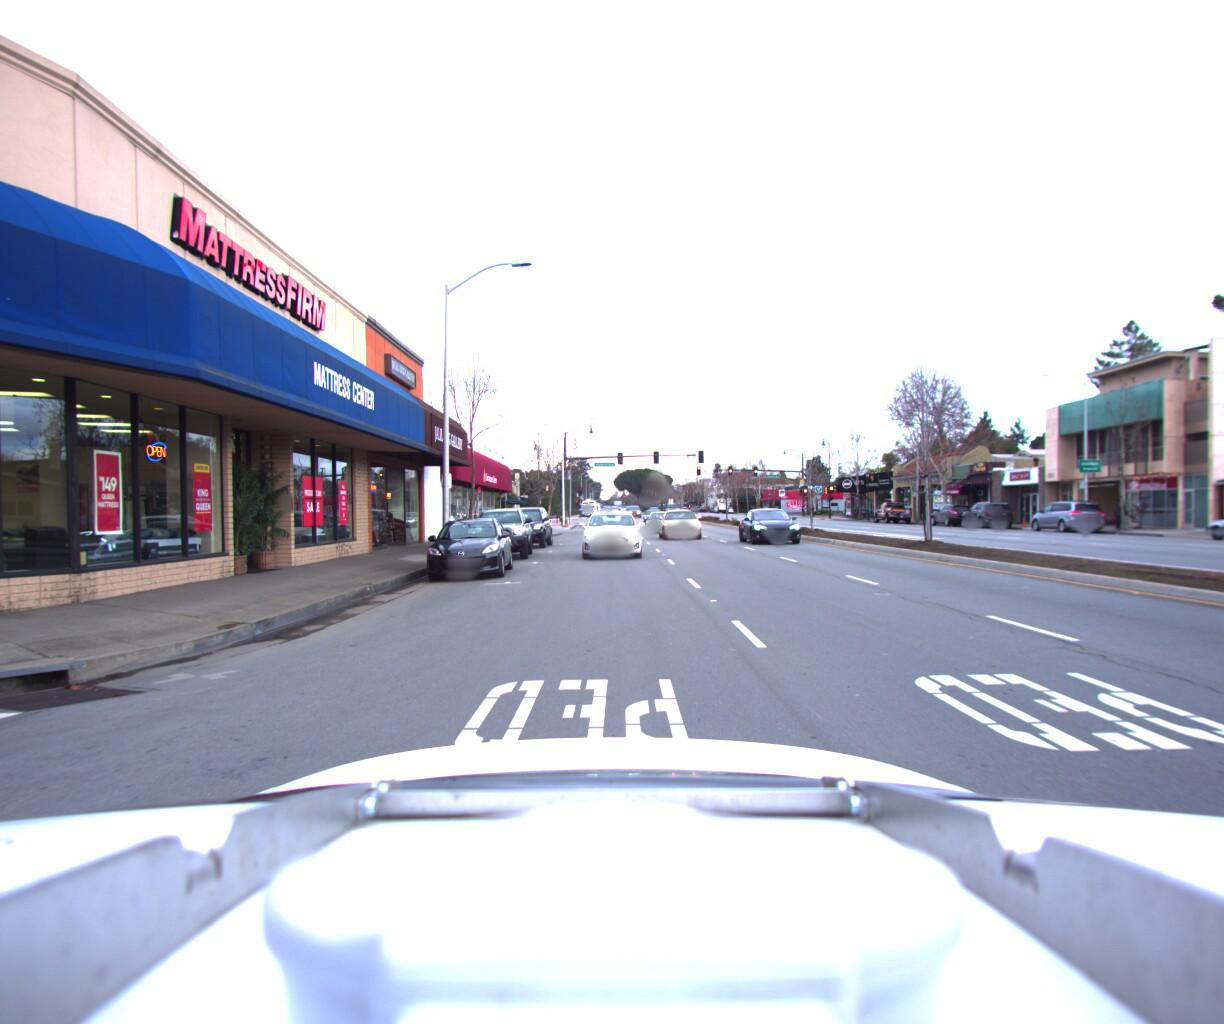car: (420, 514, 516, 583), (569, 501, 647, 561), (467, 504, 534, 562), (739, 504, 817, 545), (1028, 498, 1107, 533), (495, 504, 555, 547), (661, 507, 709, 539), (959, 500, 1016, 527), (871, 496, 916, 523), (929, 501, 975, 524), (1201, 505, 1224, 544), (642, 507, 675, 531)
